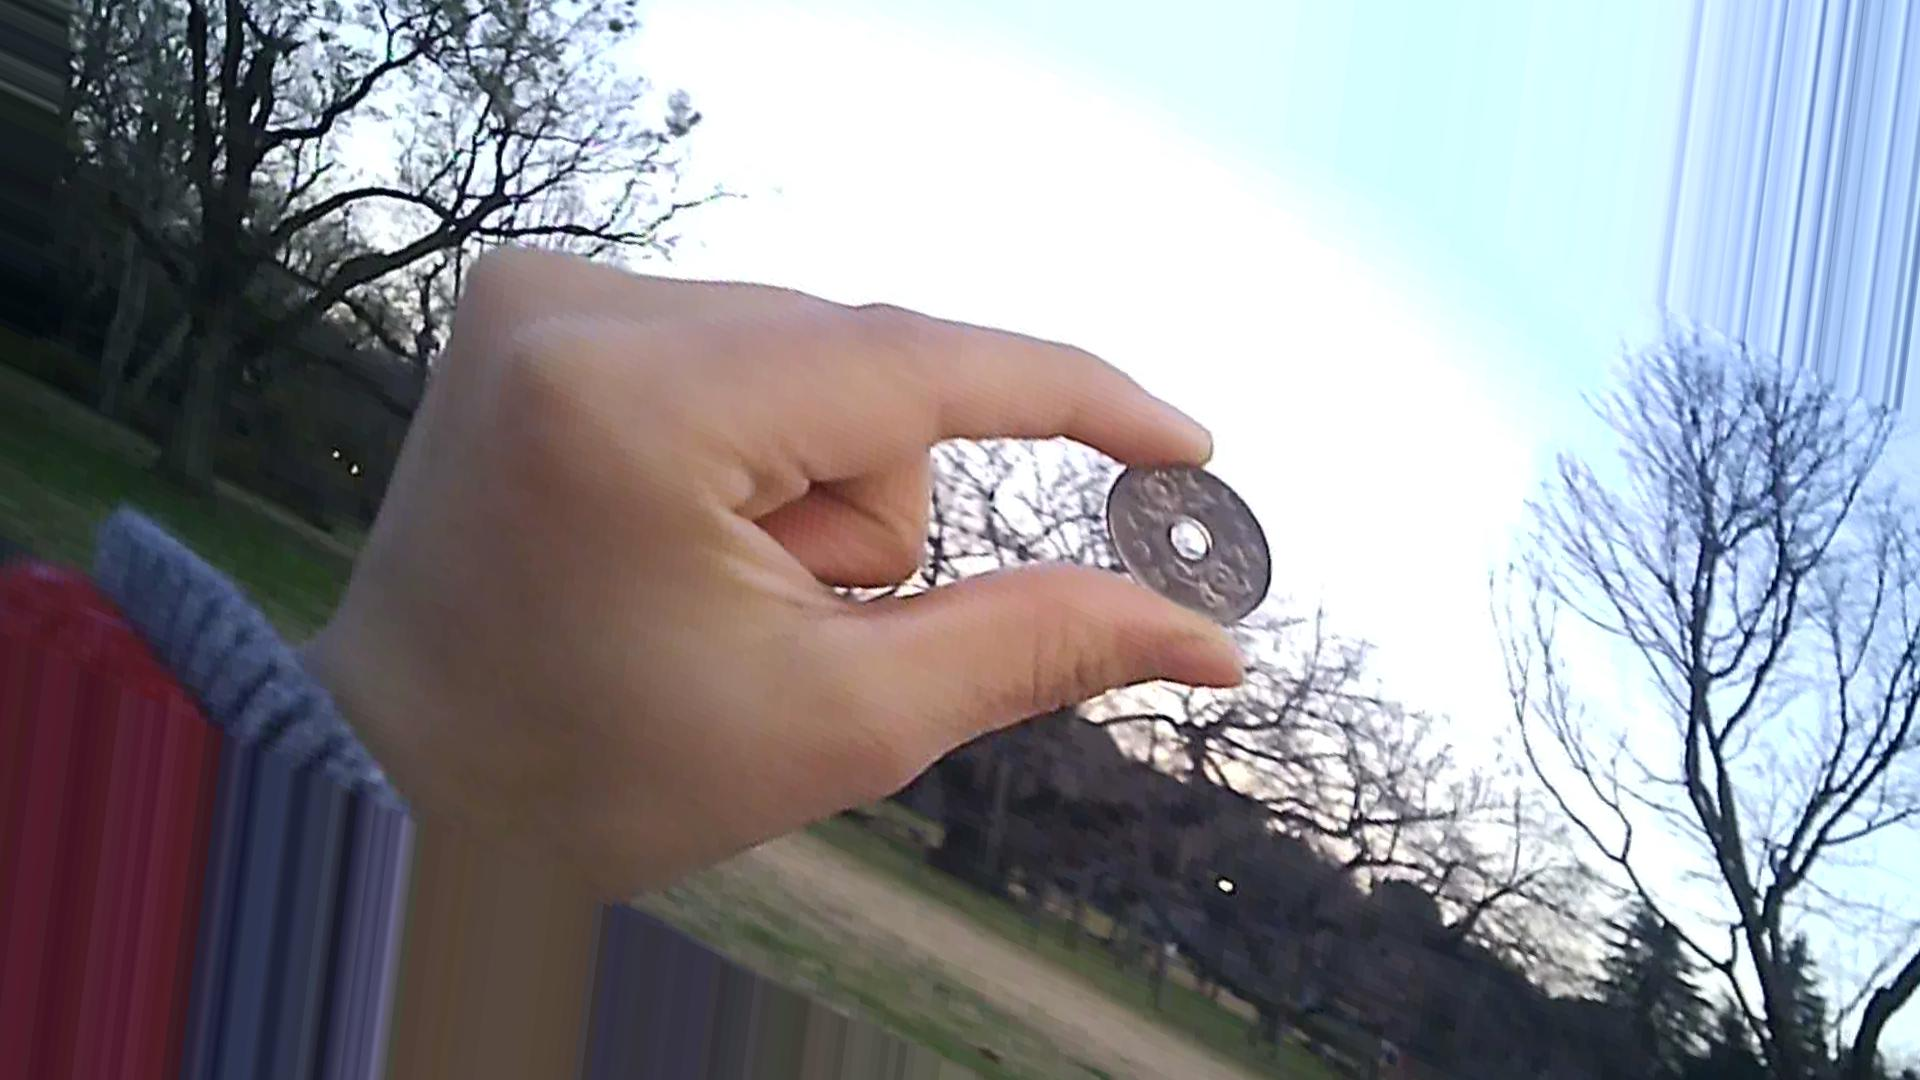50 Yen: (1096, 440, 1284, 630)
